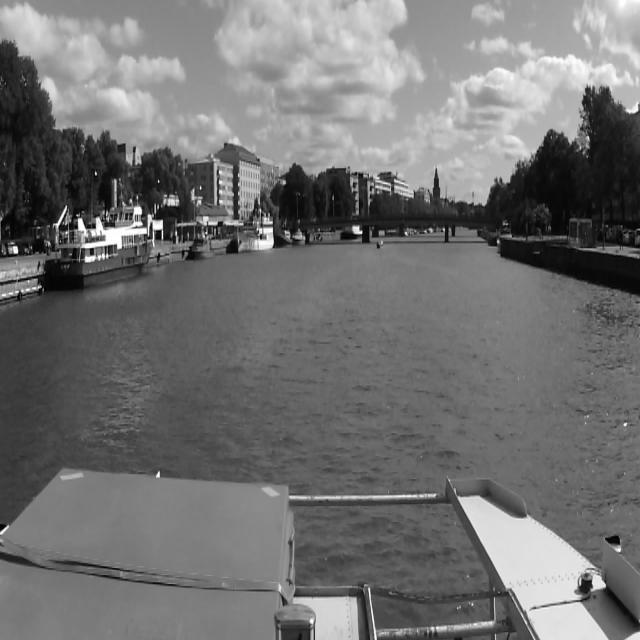ship: (45, 197, 153, 299), (235, 213, 275, 257), (190, 235, 214, 261), (278, 228, 290, 242), (294, 228, 304, 244), (376, 240, 384, 250)
